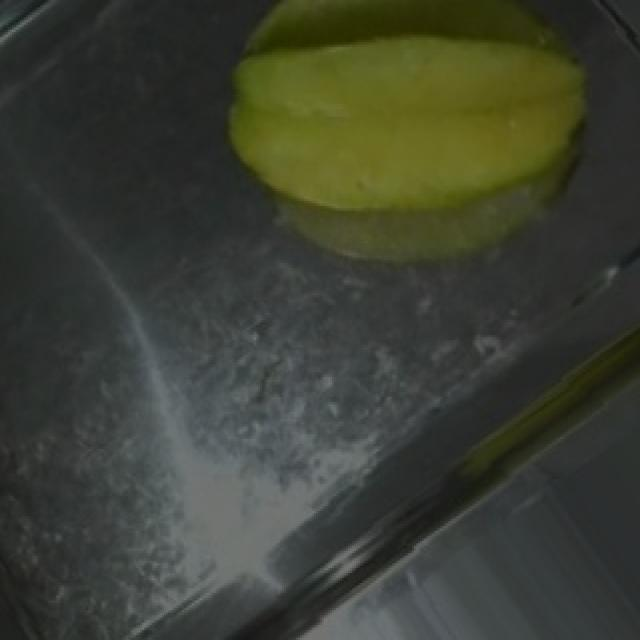fruit: (190, 0, 640, 412), (512, 400, 640, 638)
